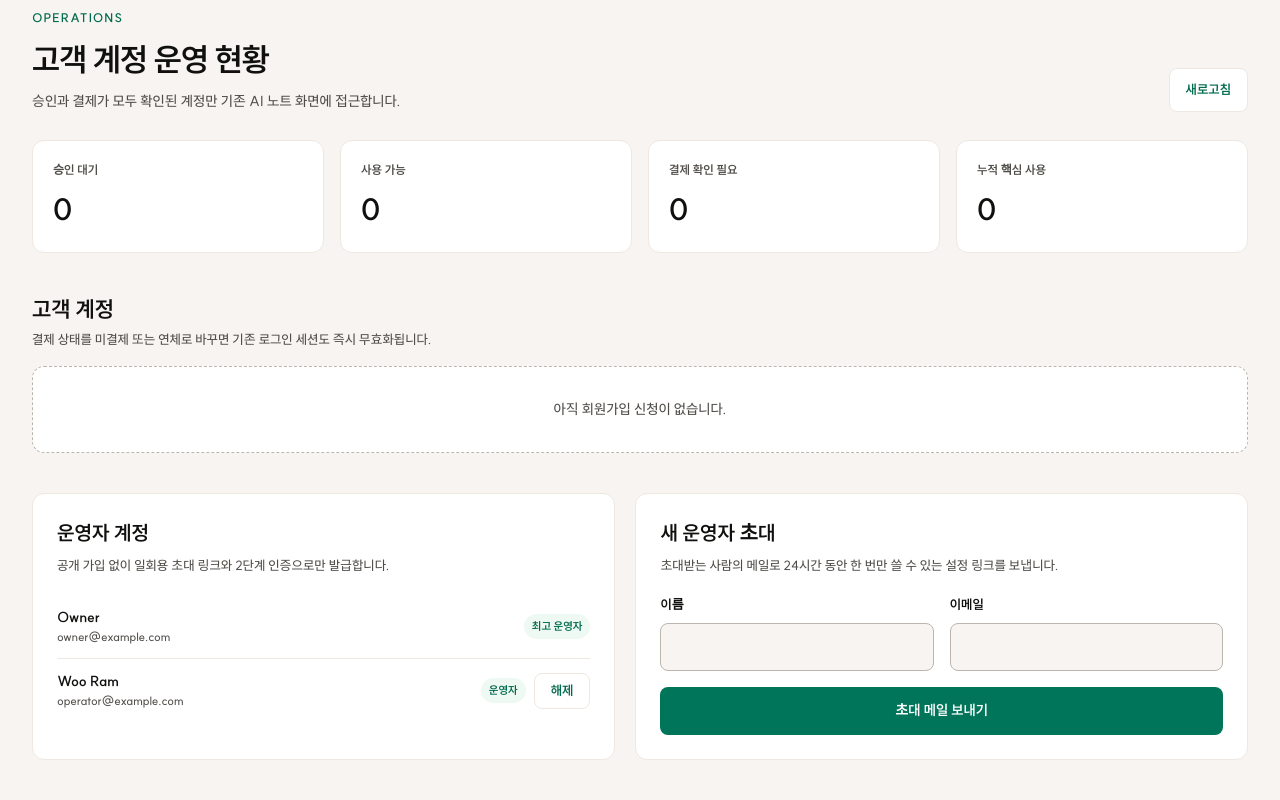
Test case: AdminConsole operator management › lets the super admin revoke an operator after confirming, and never offers it for the super admin row
(page scrolled)
Click the button with aria-label "Woo Ram 운영자 해제": (562, 690) [534,672,590,708]
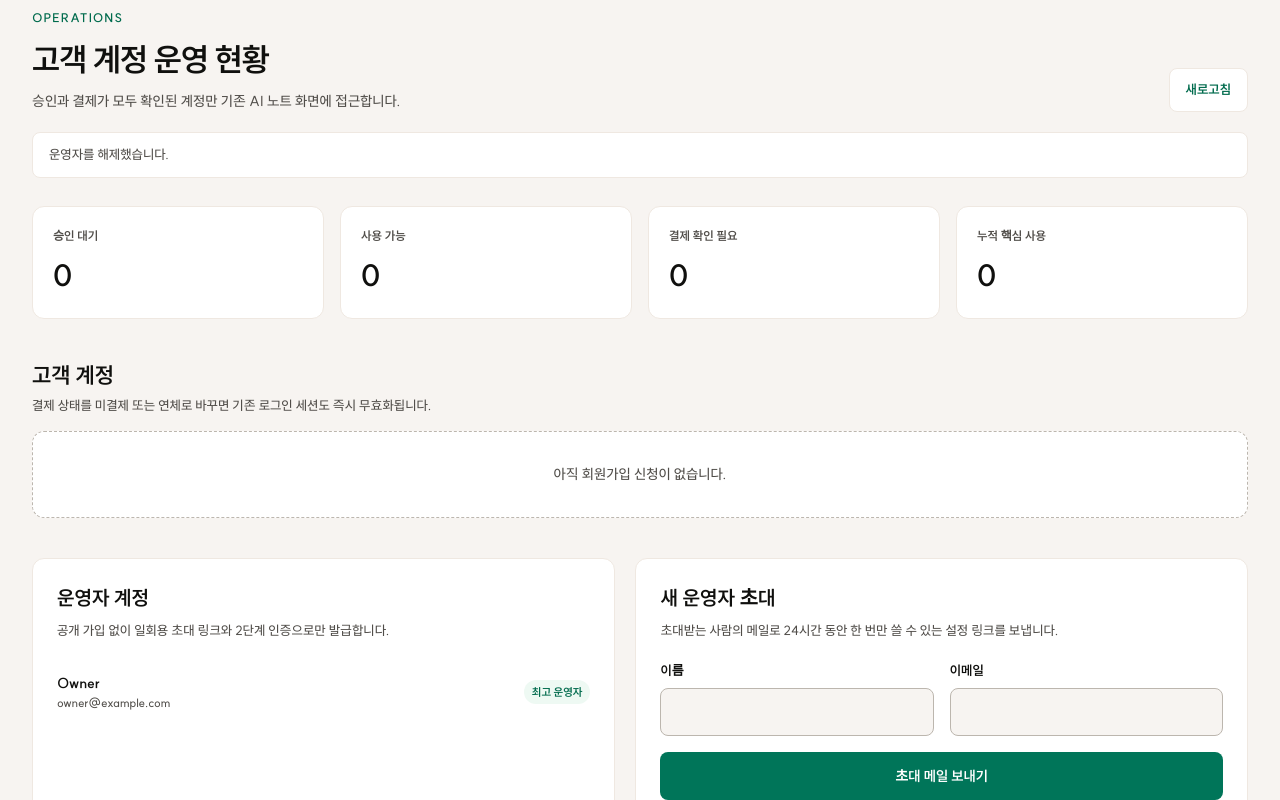
Now the text "operator@example.com" is gone
Now the text "운영자를 해제했습니다." is shown, box [32,132,1248,178]
